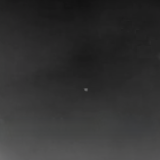Target: (84, 88, 88, 92)
